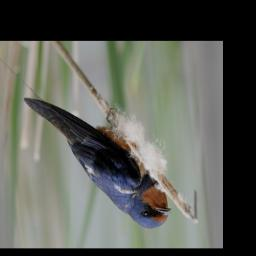Swallow: (23, 97, 173, 230)
